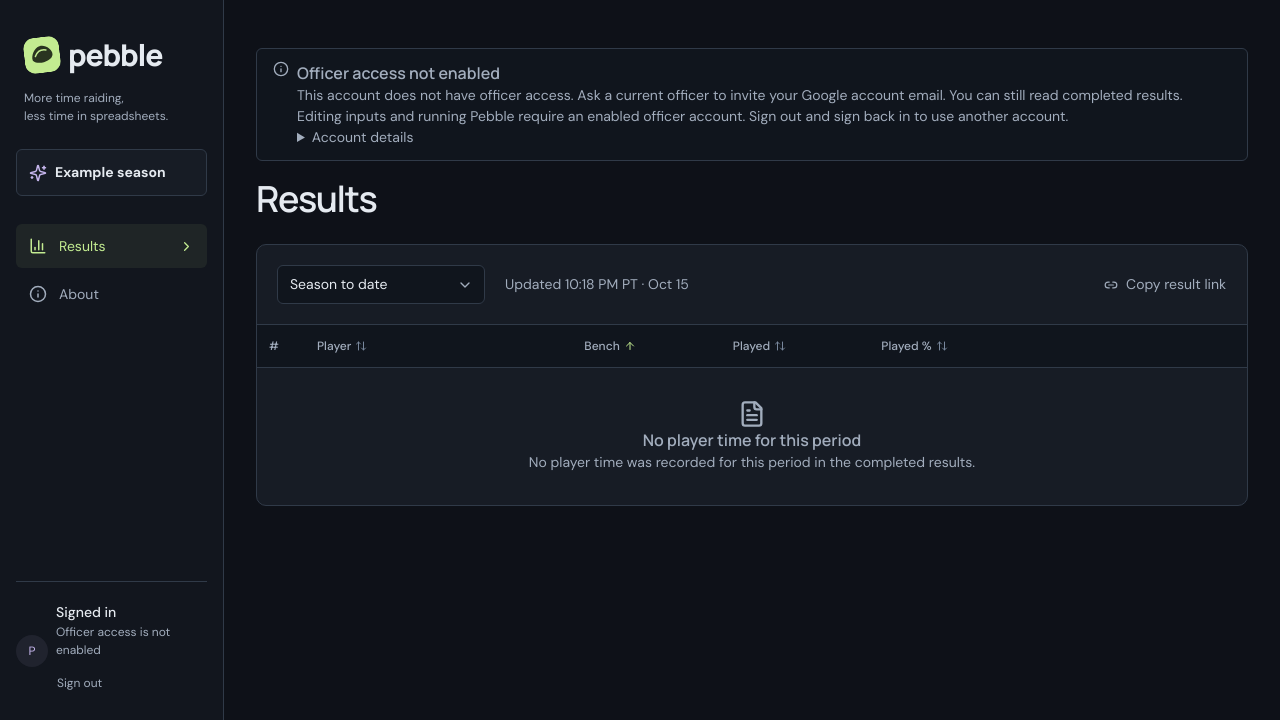
announces an account-switch failure without attempting another sign-in
Click the button "Sign out" at (80, 684), box [56, 667, 103, 700]
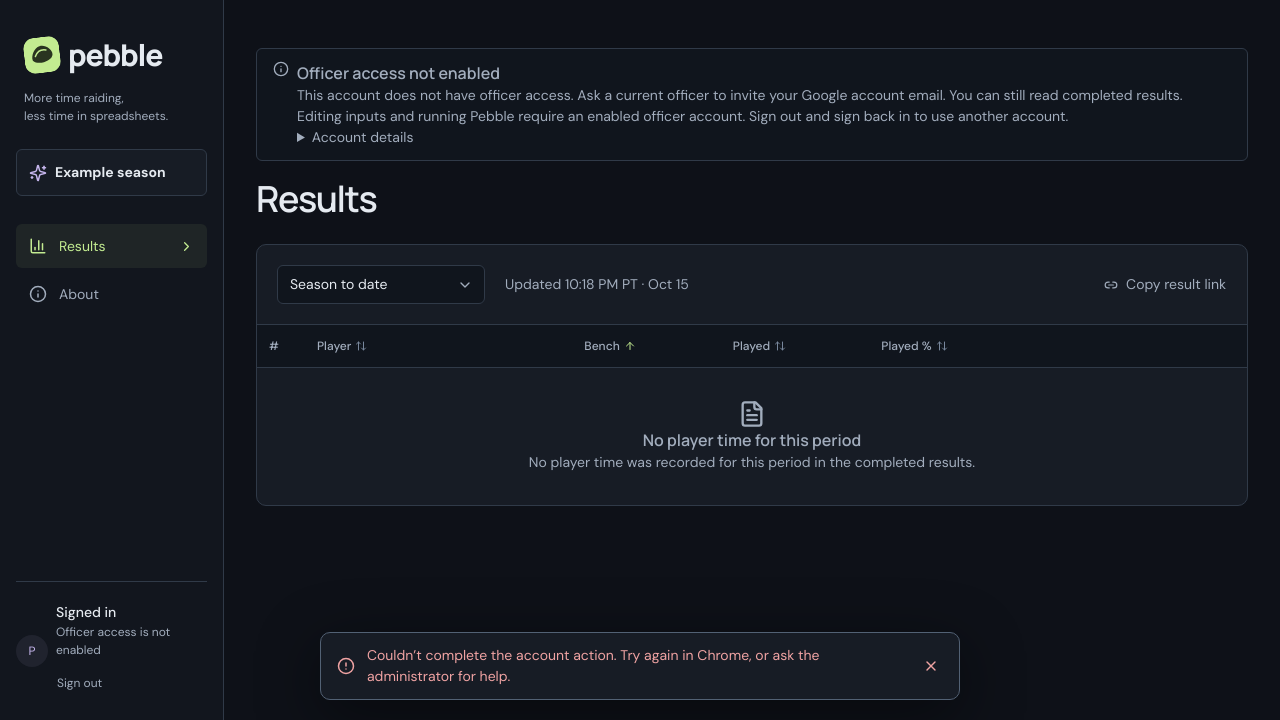
Check: the 2nd message shows "Couldn’t complete the account action", box [367, 646, 820, 685]
